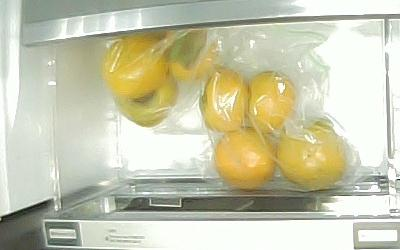persimmon_vinyl: (275, 121, 344, 188), (101, 33, 166, 98), (215, 127, 277, 191), (110, 72, 177, 127), (200, 68, 248, 132), (248, 70, 295, 133), (164, 29, 217, 82)
